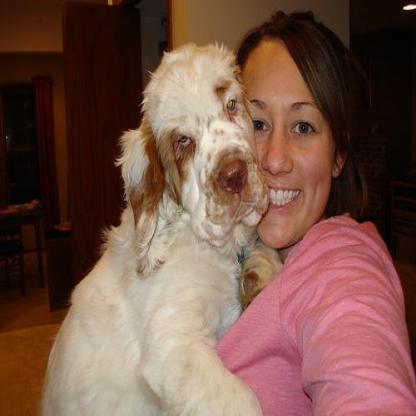clumber: (33, 40, 292, 414)
